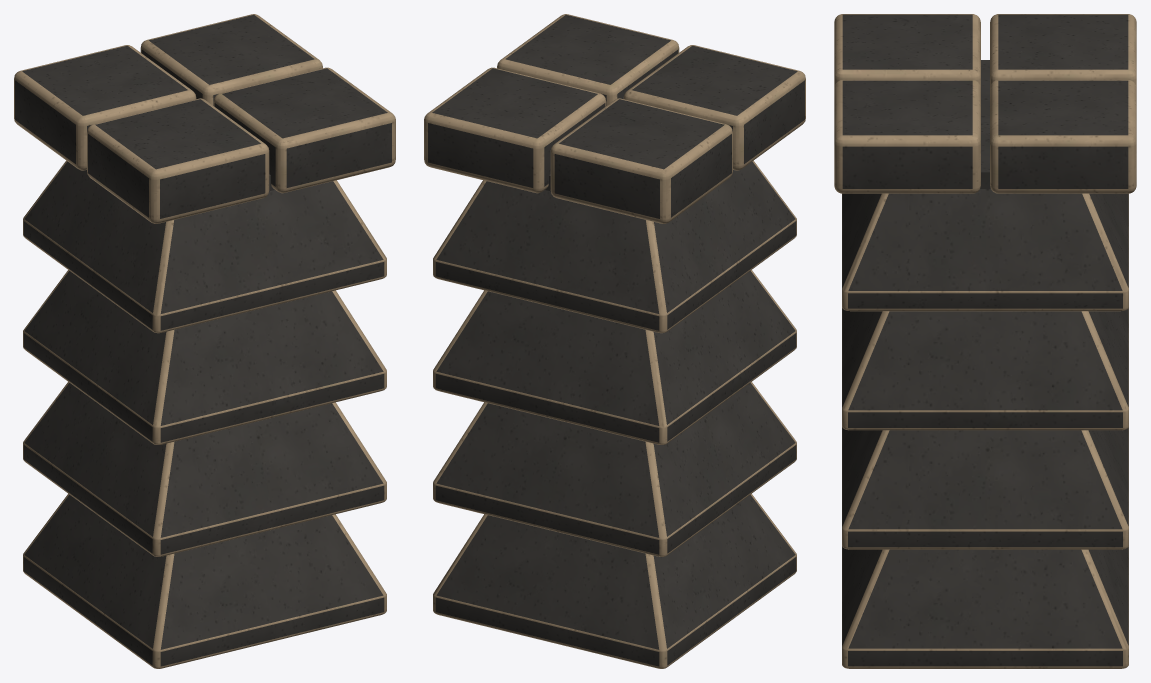
Rendered from vez_cerna.glb.
3 renders of one model, left to right at view 1: azimuth 30°, elevation 25°; view 2: azimuth 150°, elevation 25°; view 3: azimuth 270°, elevation 25°, orthographic. The views are drawn at different scales.
Parts seen in each view (by area): view 1: rook_black; view 2: rook_black; view 3: rook_black.
Part boxes in pixels (x1,y1,x2,y2): rook_black: (14, 14, 395, 668); rook_black: (424, 14, 805, 668); rook_black: (834, 14, 1136, 668).
Size of the model in its own units: 0.032 by 0.0624 by 0.032.
2 materials, 2 textured.
